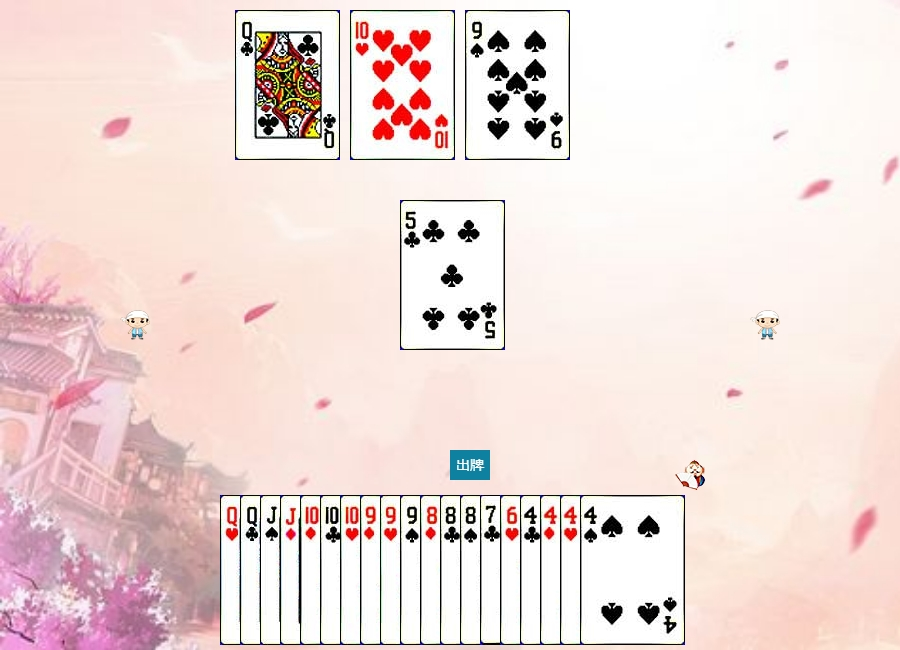10~1: (300, 495, 405, 645)
10~2: (320, 495, 425, 645)
10~3: (350, 10, 455, 160), (340, 495, 445, 645)
11~1: (280, 495, 385, 645)
11~4: (260, 495, 365, 645)
12~2: (235, 10, 340, 160), (240, 495, 345, 645)
12~3: (220, 495, 325, 645)
4~1: (540, 495, 645, 645)
4~2: (520, 495, 625, 645)
4~3: (560, 495, 665, 645)
4~4: (580, 495, 685, 645)
5~2: (400, 200, 505, 350)
6~3: (500, 495, 605, 645)
7~2: (480, 495, 585, 645)
8~1: (420, 495, 525, 645)
8~2: (440, 495, 545, 645)
8~4: (460, 495, 565, 645)
9~1: (360, 495, 465, 645)
9~3: (380, 495, 485, 645)
9~4: (465, 10, 570, 160), (400, 495, 505, 645)
